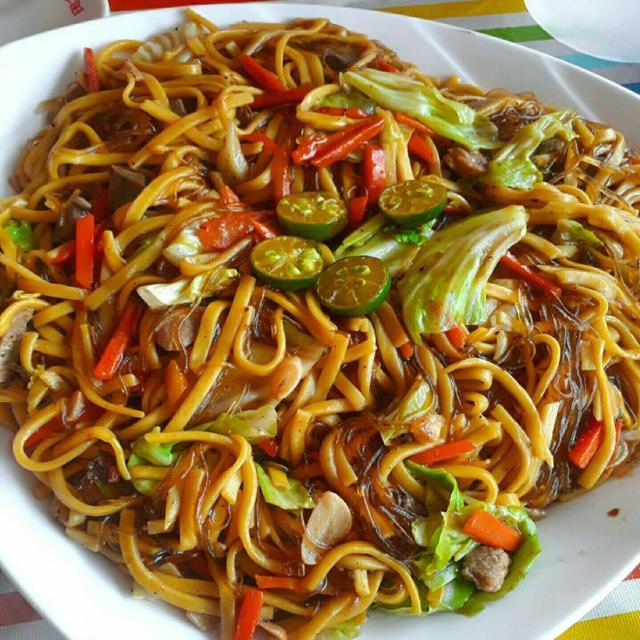pancit bihon: (1, 18, 640, 621)
